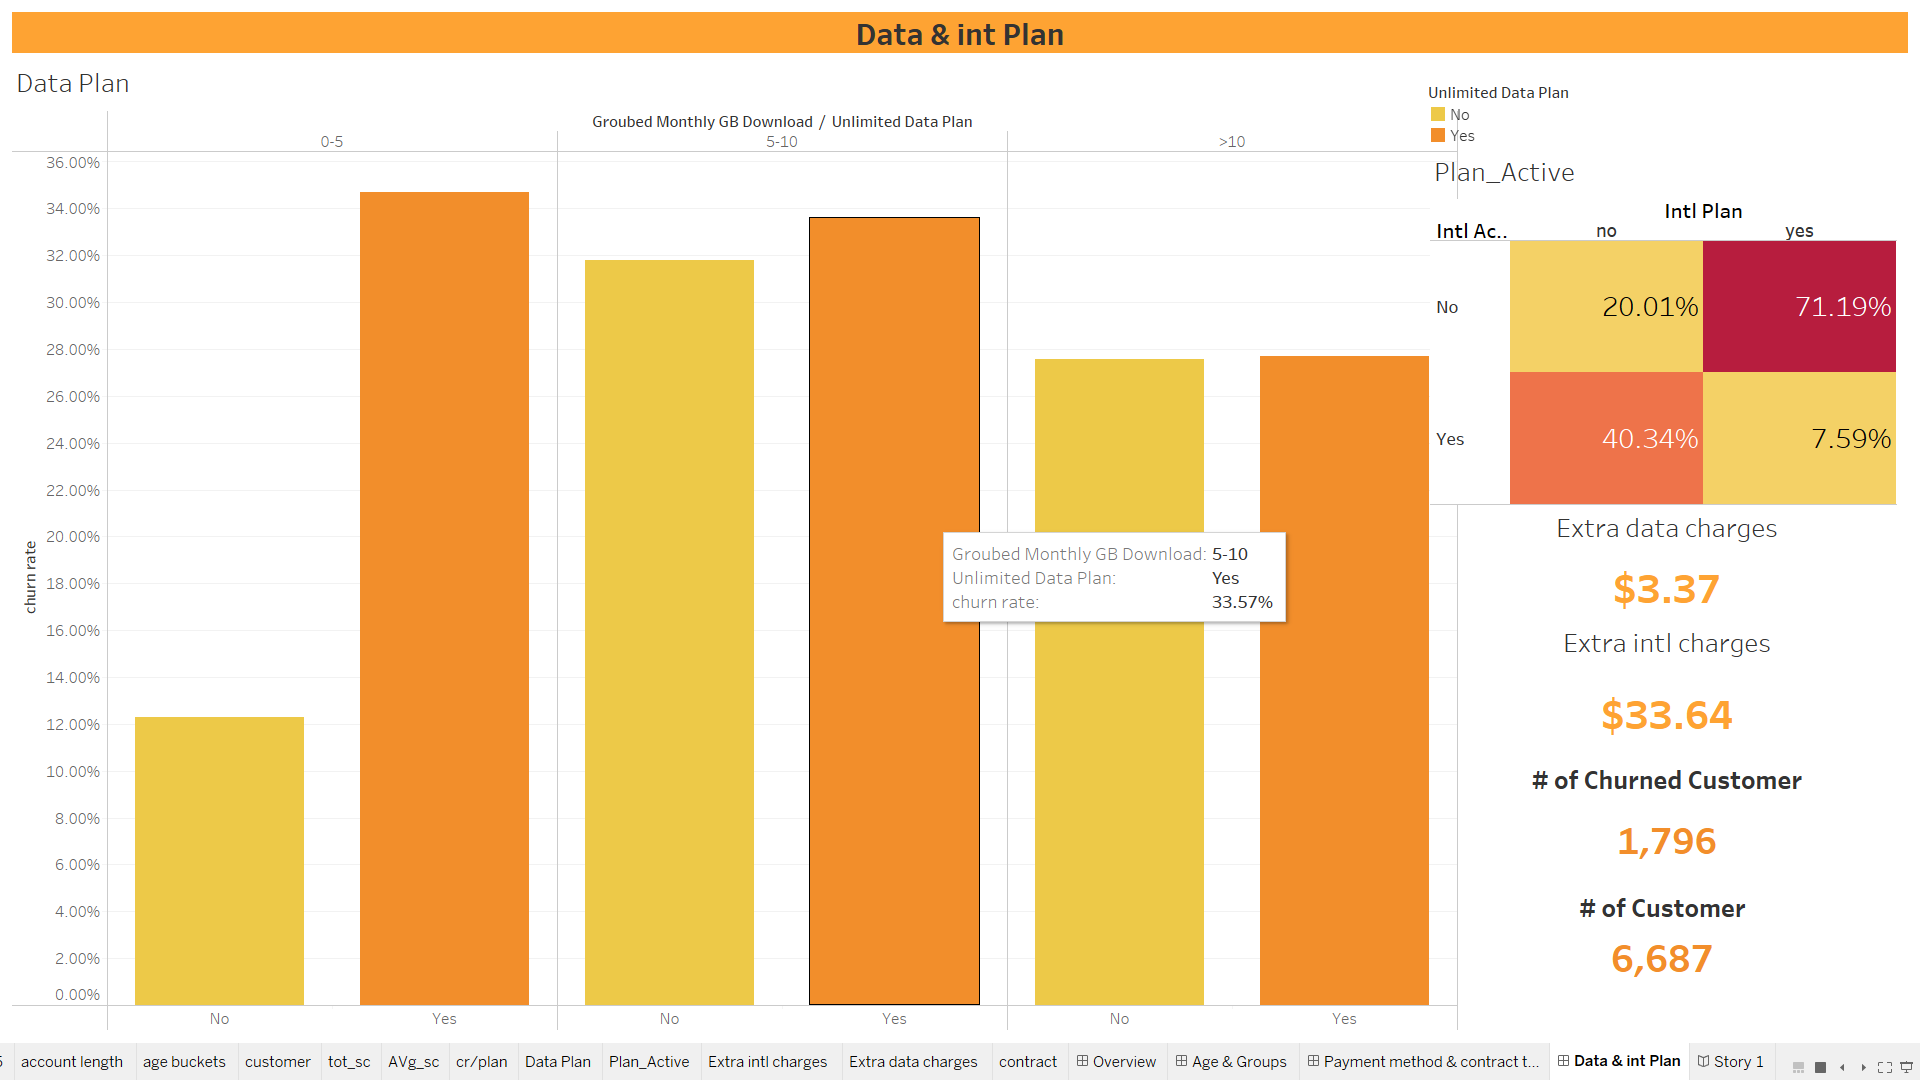

The dashboard page shown, as its layout file describes it:
{"tool":"tableau","page":{"name":"Data & int Plan","canvas":[1000,1000],"units":"permille","ordinal":1},"visuals":[{"type":"title","box":[4.7,8.8,990.6,53.8]},{"type":"worksheet","title":"Data Plan","mark":"Automatic","rows":["Calculation_1270015102433320965"],"cols":["Calculation_634444605063966721","Unlimited Data Plan"],"box":[4.7,62.6,725.4,928.6]},{"type":"legend","title":"Data Plan","param":"[federated.126dpc61ox4dfk1h3xwsc1kb167l].[none:Unlimited Data Plan:nk]","box":[743.7,79,195.1,62.6]},{"type":"worksheet","title":"Plan_Active","mark":"Square","rows":["Intl Active"],"cols":["Intl Plan"],"box":[744.8,143.8,243.4,340.3]},{"type":"worksheet","title":"Extra data charges","mark":"Automatic","box":[770.8,485.2,195.1,108.7]},{"type":"worksheet","title":"Extra intl charges","mark":"Automatic","box":[770.8,595,195.1,128.4]},{"type":"worksheet","title":"# of Churned Customer","mark":"Automatic","box":[772.5,726.7,191.5,110.9]},{"type":"worksheet","title":"# of Customer","mark":"Automatic","box":[772.5,849.6,186.8,88.9]}]}

Visuals, with their boxes on the dashboard's canvas, which has no fixed pixel size, in thousandths of its width and height (x1, y1, x2, y2). These are canvas units, not pixel positions in the 1920x1080 screenshot, which may show the page scaled, cropped or inside an application window:
title: BBox(5, 9, 995, 63)
"Data Plan" worksheet: BBox(5, 63, 730, 991)
"Data Plan" legend: BBox(744, 79, 939, 142)
"Plan_Active" worksheet (Square marks): BBox(745, 144, 988, 484)
"Extra data charges" worksheet: BBox(771, 485, 966, 594)
"Extra intl charges" worksheet: BBox(771, 595, 966, 723)
"# of Churned Customer" worksheet: BBox(772, 727, 964, 838)
"# of Customer" worksheet: BBox(772, 850, 959, 938)
